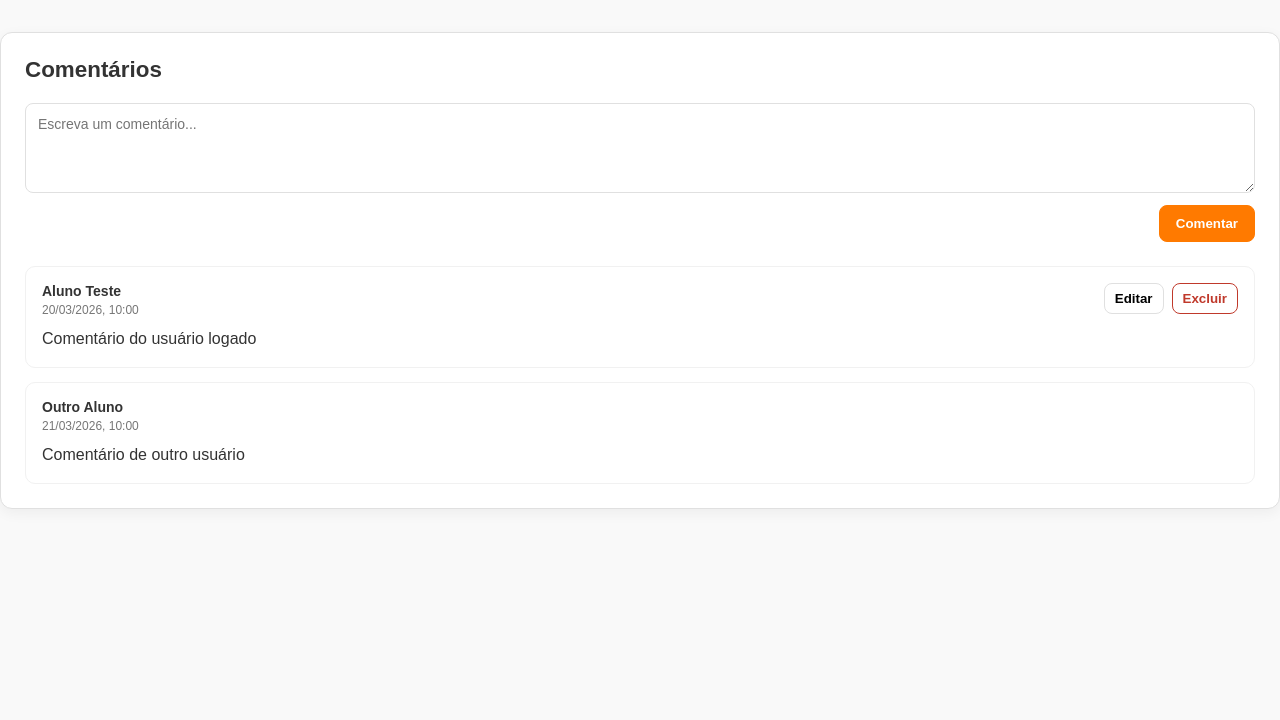
Test case: CommentsSection › abre modal e exclui comentário
The image size is (1280, 720).
expect the text "Comentário do usuário logado" is shown: met, box [42,330,256,347]
Click the button "Excluir" at x=1205, y=298, box [1172,283,1238,314]
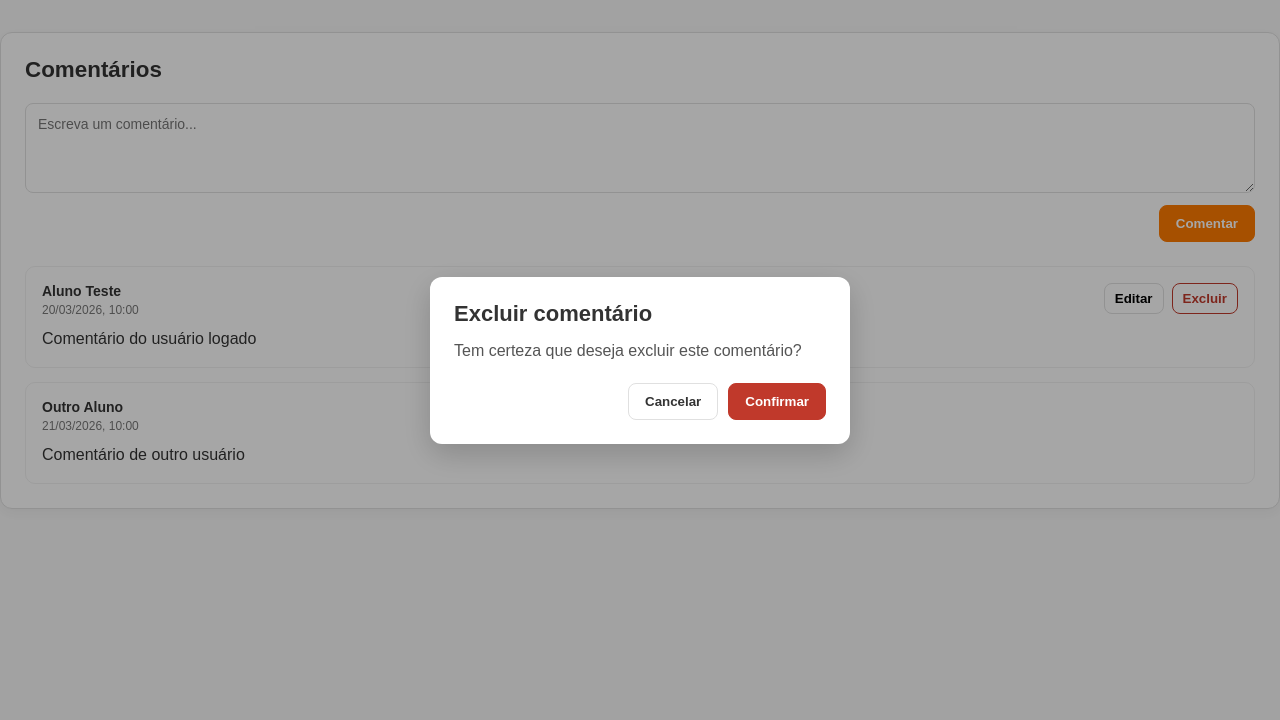
expect the heading "Excluir comentário" is shown: met, box [454,300,652,326]
Click the button "Confirmar" at x=777, y=401, box [728,382,826,420]
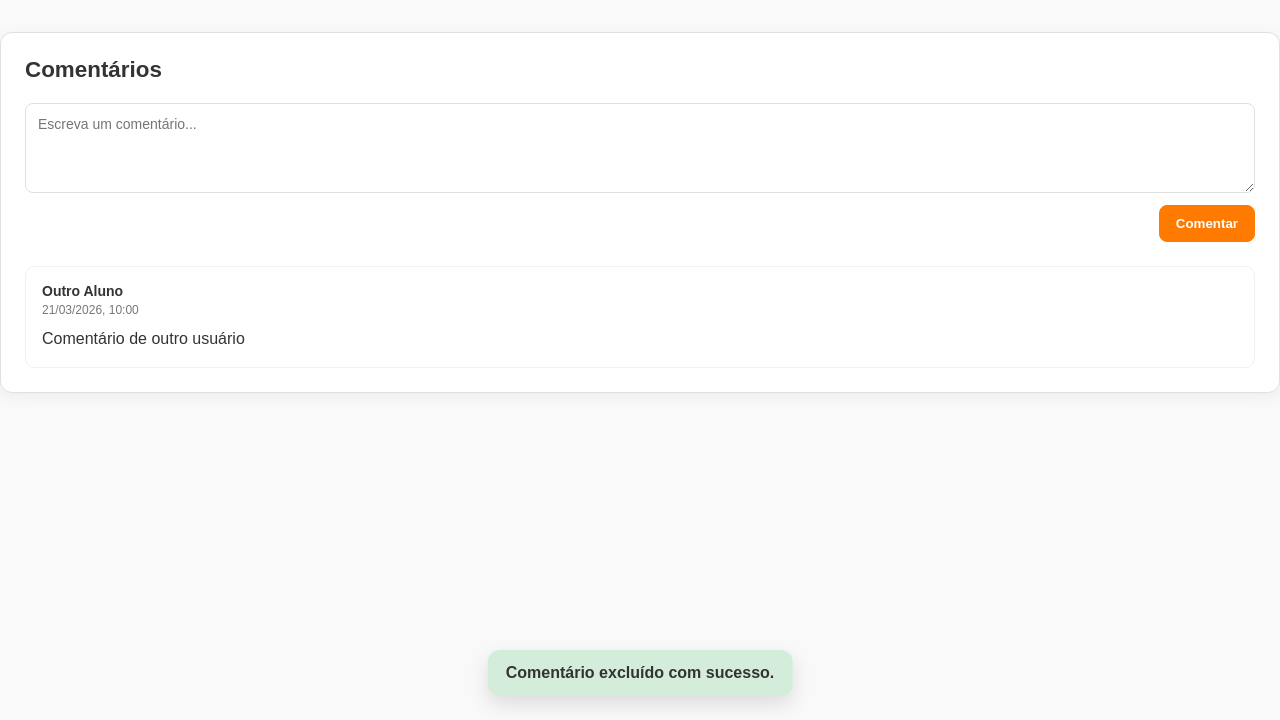
expect the text "Comentário do usuário logado" is gone: met
